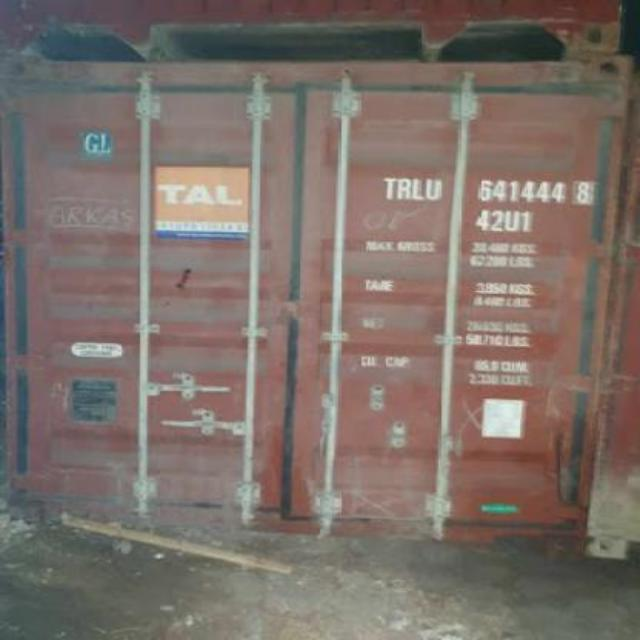1: (506, 172, 522, 206)
4: (488, 169, 506, 205), (534, 172, 550, 204), (520, 170, 534, 206), (550, 173, 564, 205)
6: (474, 170, 490, 206)
8: (572, 177, 594, 210)
L: (410, 170, 426, 206)
R: (394, 170, 412, 203)
T: (376, 170, 396, 203)
U: (424, 172, 440, 204)
